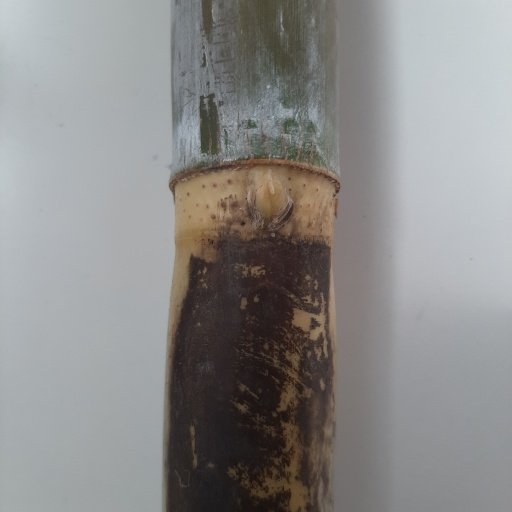Bud: (251, 177, 289, 222)
